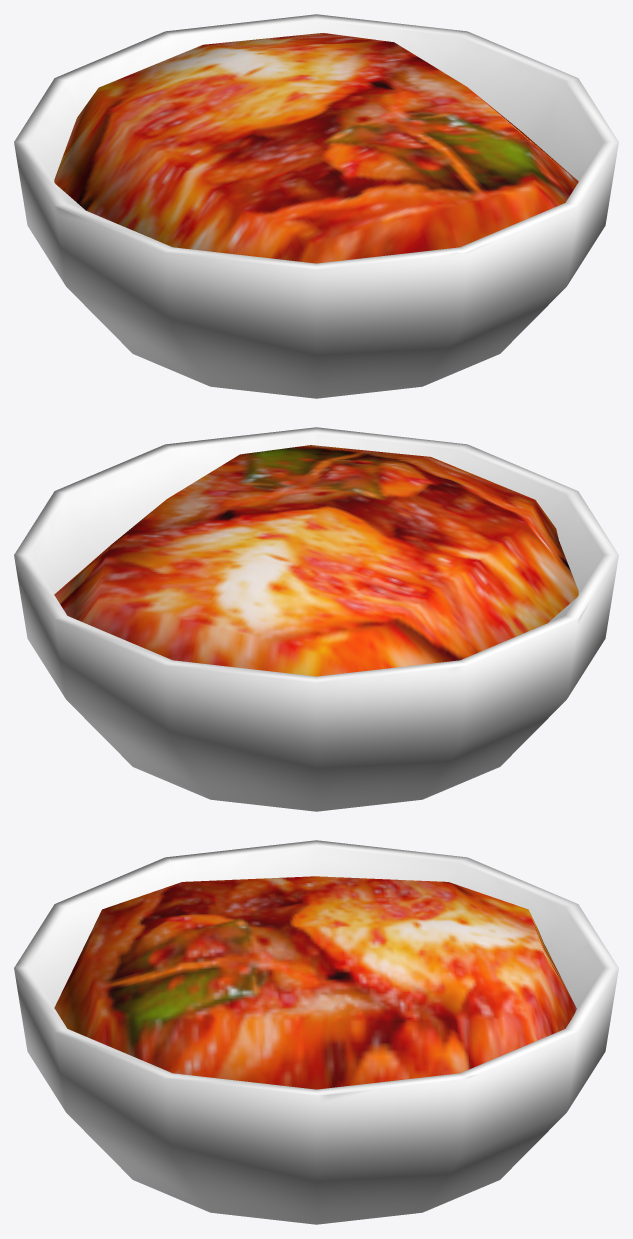
File: kimchi.gltf
The picture shows the model from 3 angles, top to bottom: view 1: azimuth 30°, elevation 25°; view 2: azimuth 150°, elevation 25°; view 3: azimuth 270°, elevation 25°; orthographic projection.
Parts seen in each view (by area): view 1: kimchbowl, kimchiblob; view 2: kimchbowl, kimchiblob; view 3: kimchbowl, kimchiblob.
Boxes of the visible parts, x1=… form: kimchbowl: x1=14, y1=14, x2=618, y2=398; kimchiblob: x1=54, y1=33, x2=578, y2=263; kimchbowl: x1=14, y1=427, x2=618, y2=811; kimchiblob: x1=54, y1=445, x2=578, y2=676; kimchbowl: x1=14, y1=840, x2=618, y2=1224; kimchiblob: x1=54, y1=876, x2=576, y2=1089.
Bounding box in the file's own units: 0.2783 × 0.1058 × 0.2783.
Materials: 2 (2 with a texture image).
